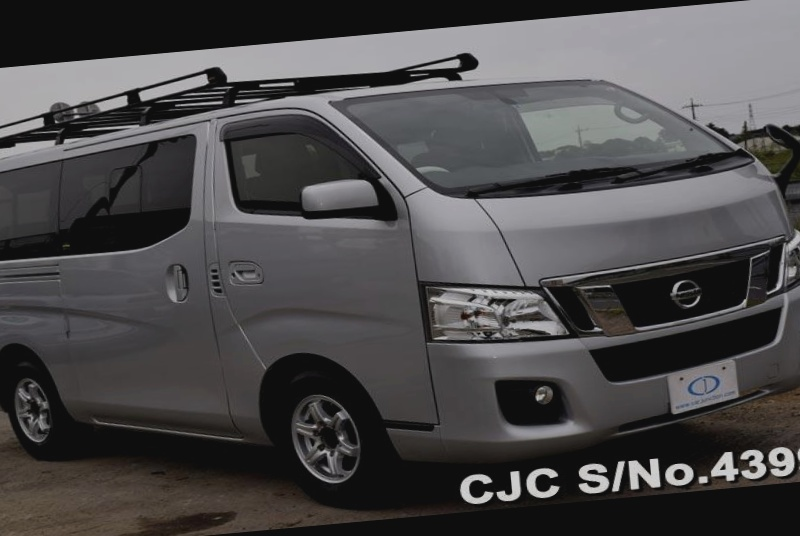van: (0, 50, 800, 517)
